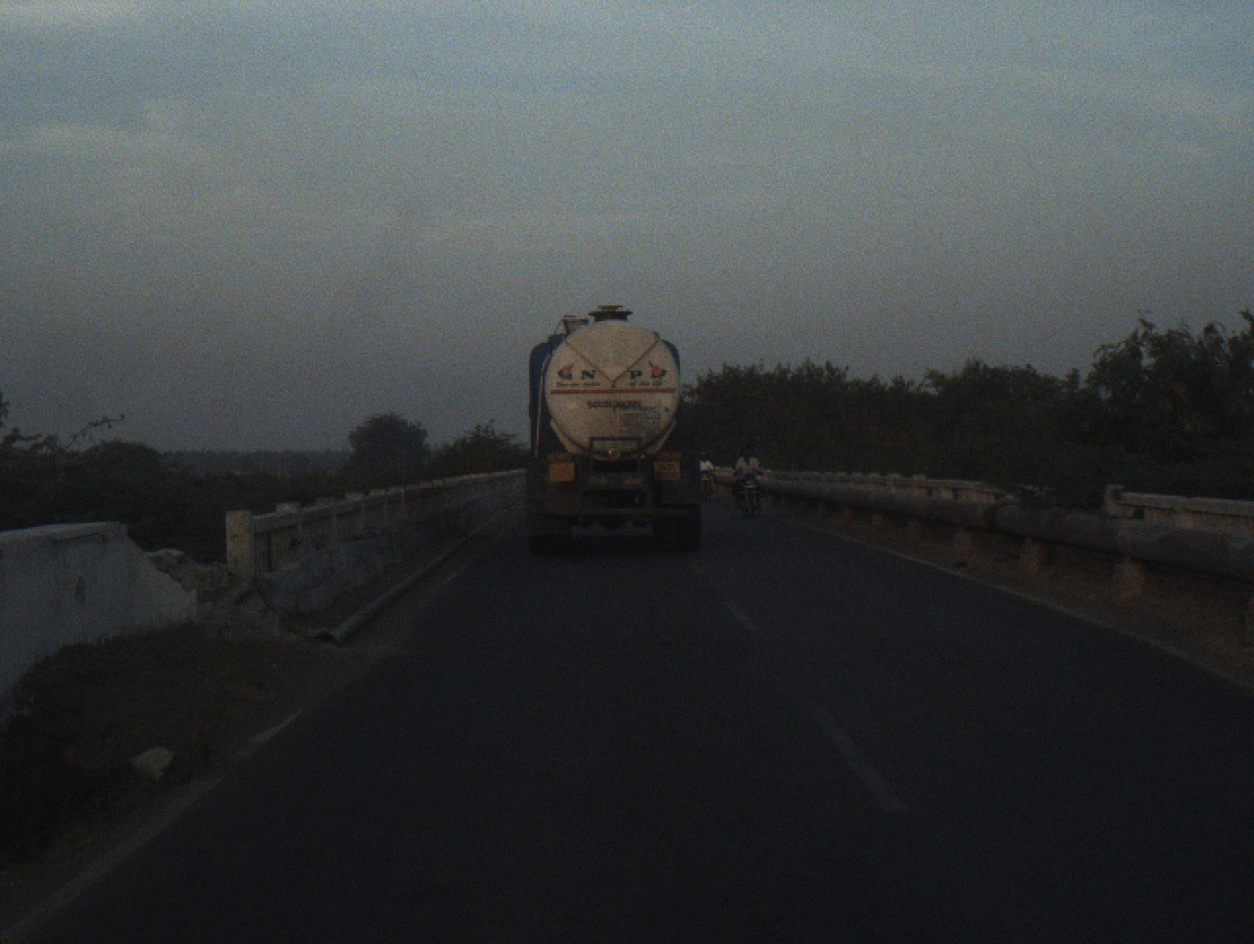motorcycle: (732, 468, 767, 518), (696, 465, 713, 509)
rider: (734, 444, 765, 511), (699, 448, 713, 477)
truck: (513, 304, 708, 563)
